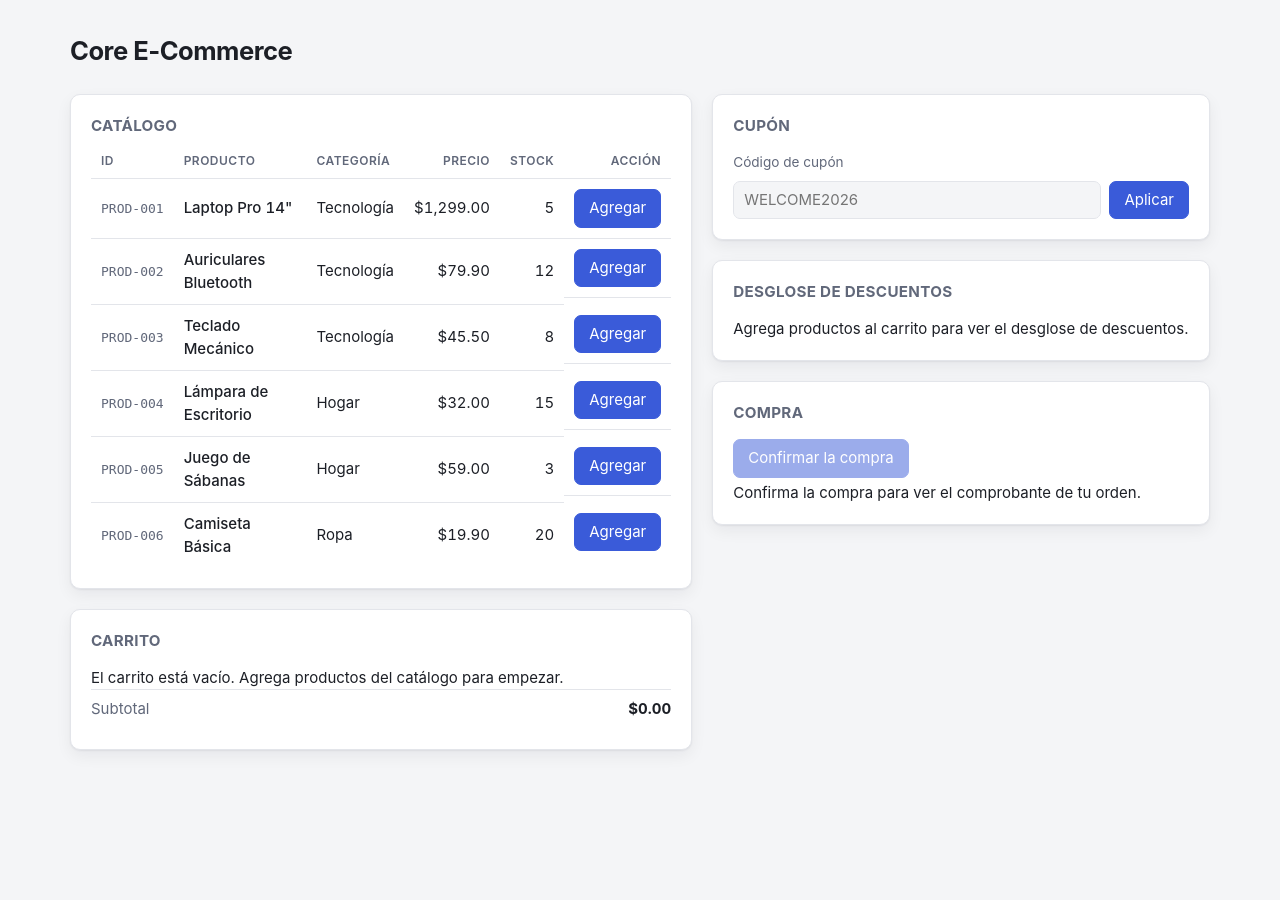
Test case: disminuir y quitar (FC-R5.3) › disminuir desde 1 elimina la fila y devuelve el mensaje de carrito vacio
What coordinates should you click on to do the following:
click the button "Agregar" in the row of "PROD-006"
I would click on:
 (618, 532)
Its box is [574,513,661,551].
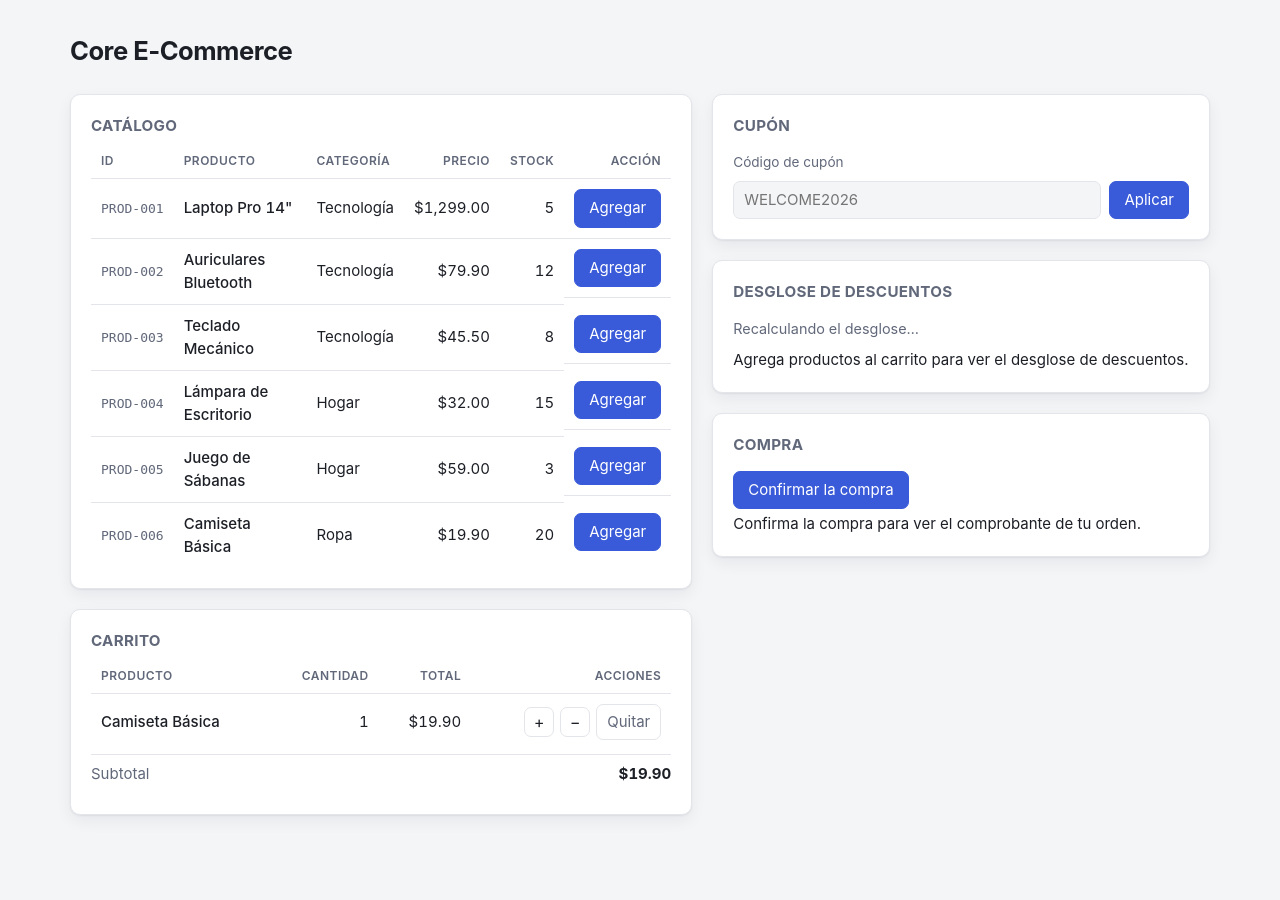
What coordinates should you click on to do the following:
click the button "−"
I would click on:
 (575, 722)
Its box is [560,707,590,737].
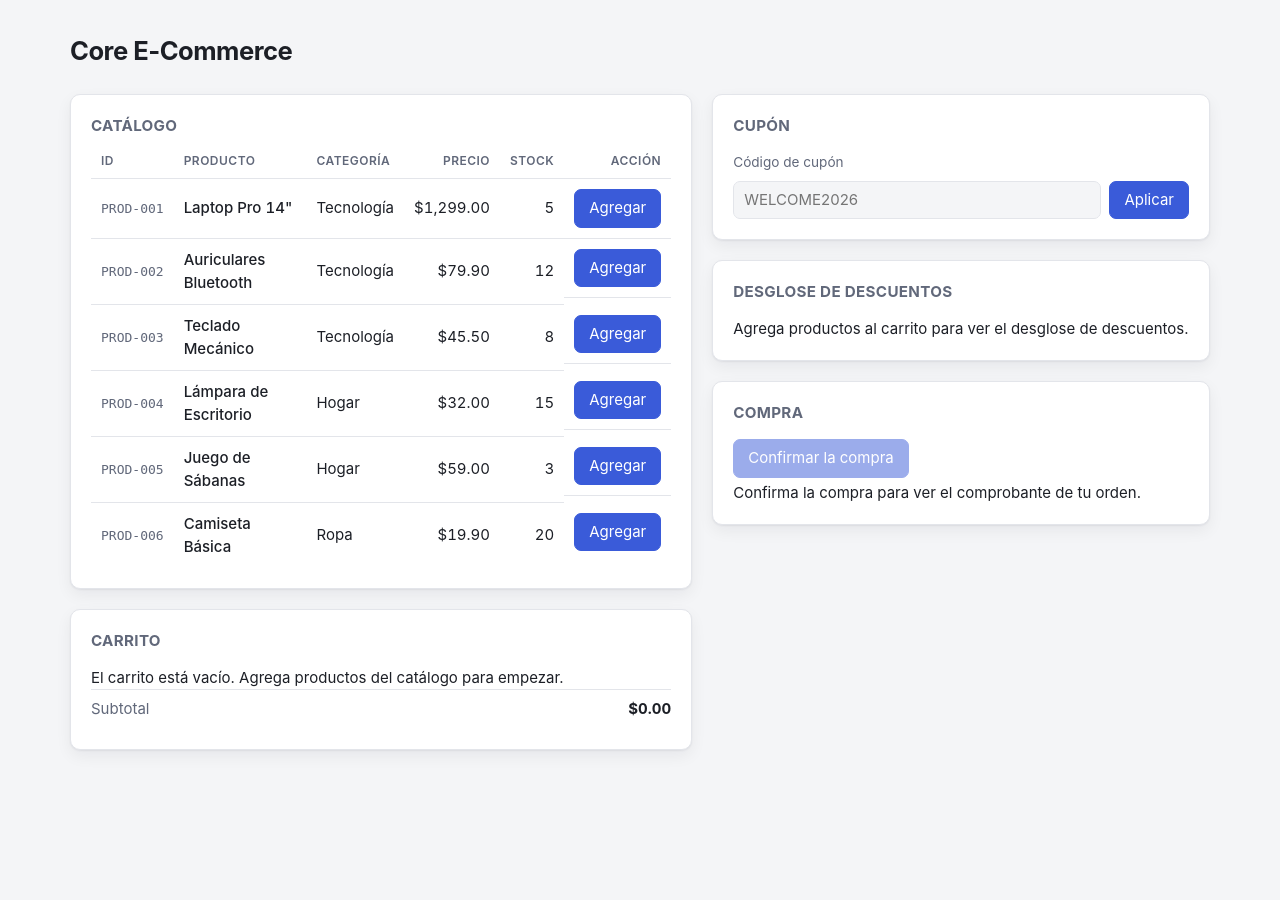
Now the text "El carrito está vacío. Agrega productos del catálogo para empezar." is shown, box [91,668,564,687]
